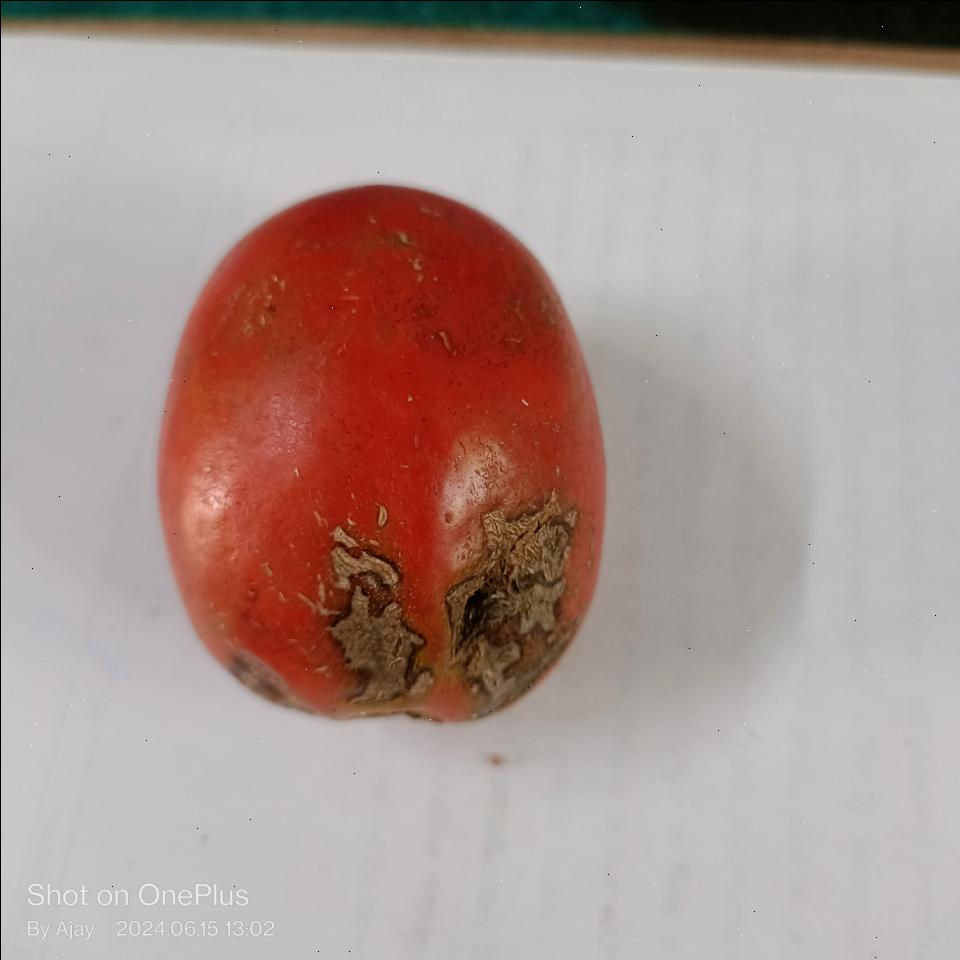Bacterial_Spot: (428, 495, 574, 690), (305, 520, 433, 704), (228, 644, 276, 682)
